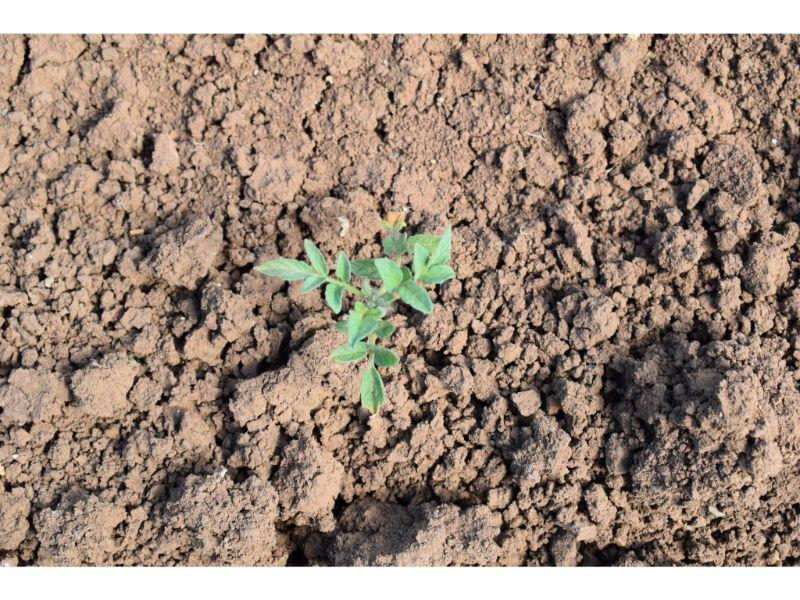tomato: (254, 223, 455, 413)
